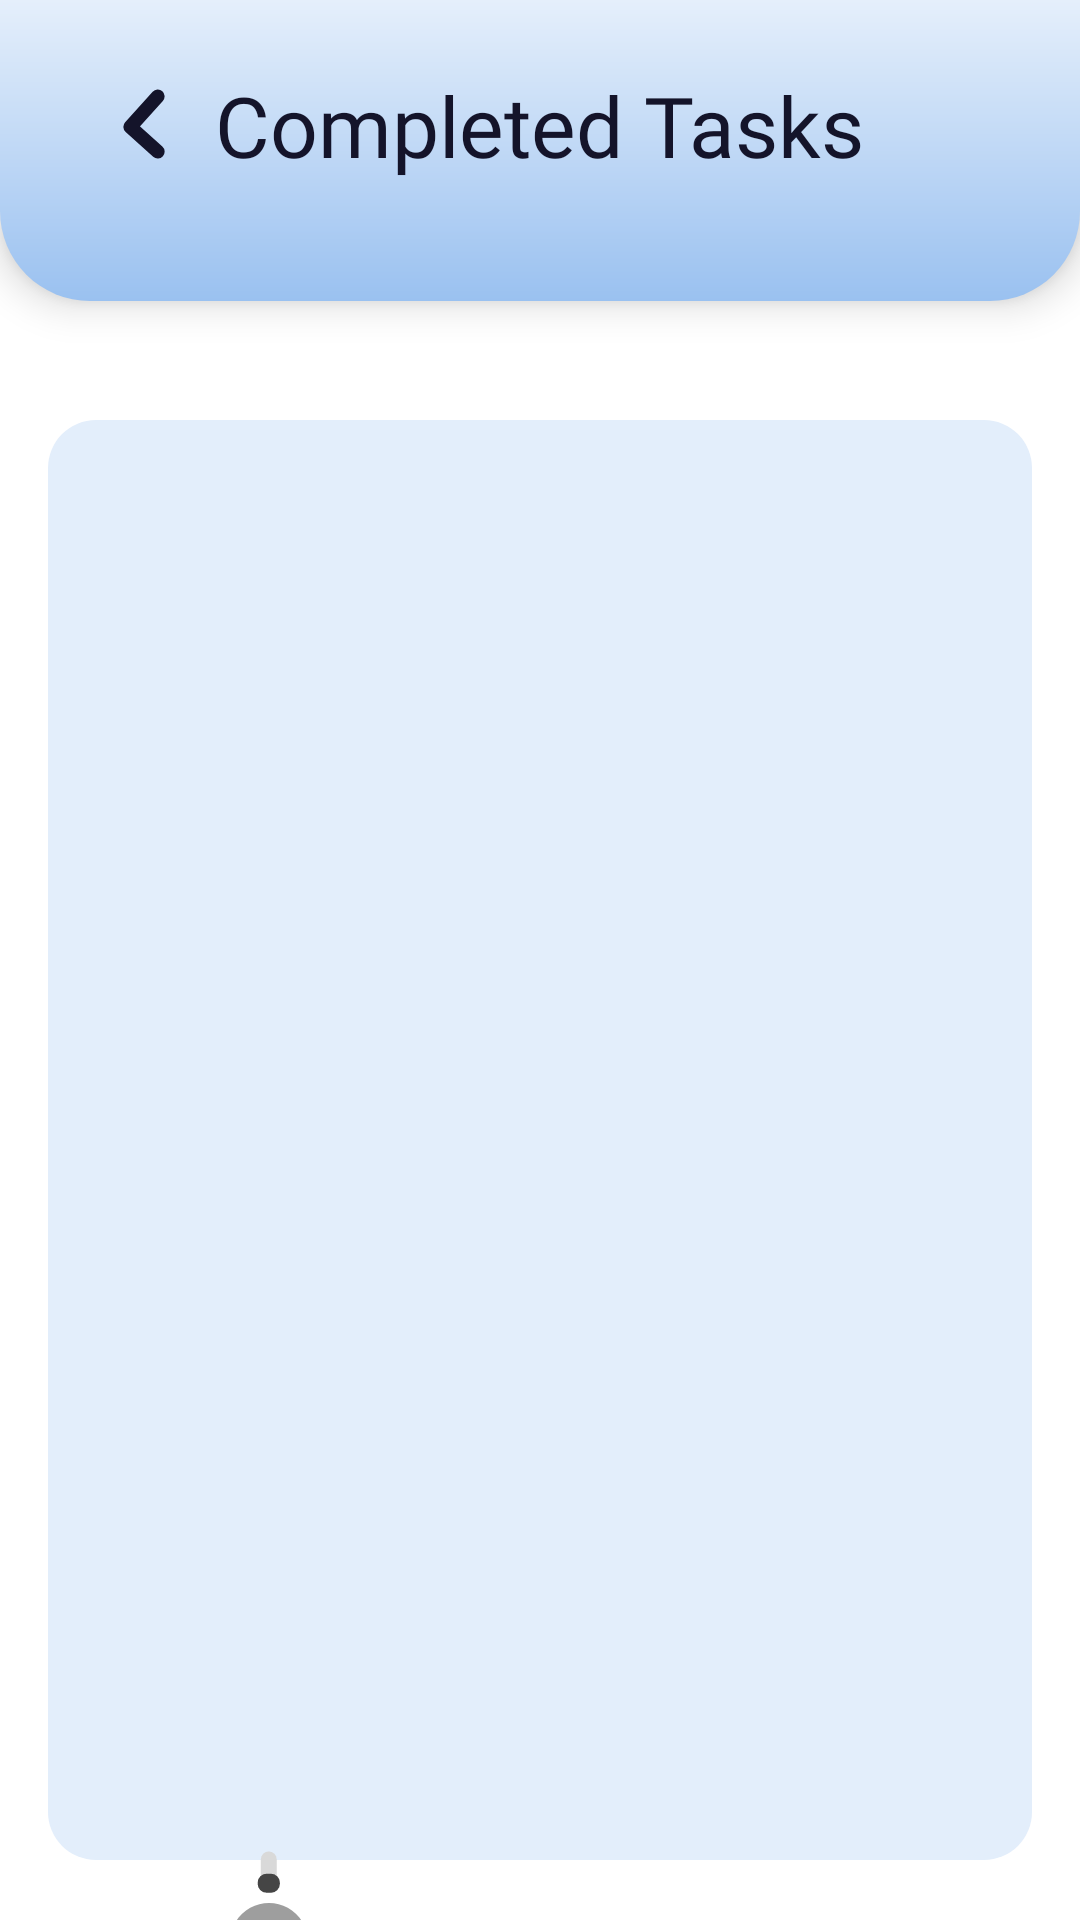

Screen size 1080x1920. Icon name, then its center in pixels as point (x, y):
Back: point (144, 124)
